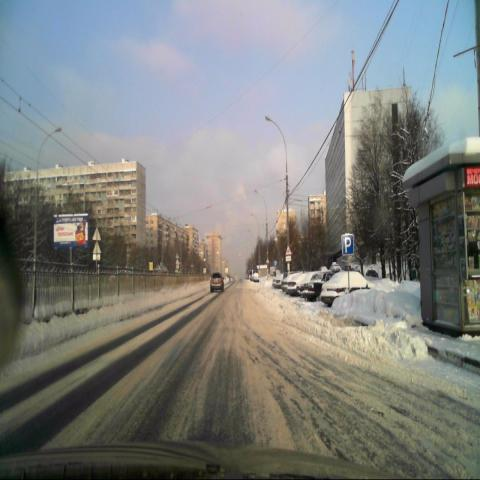6_4: (341, 233, 354, 257)
